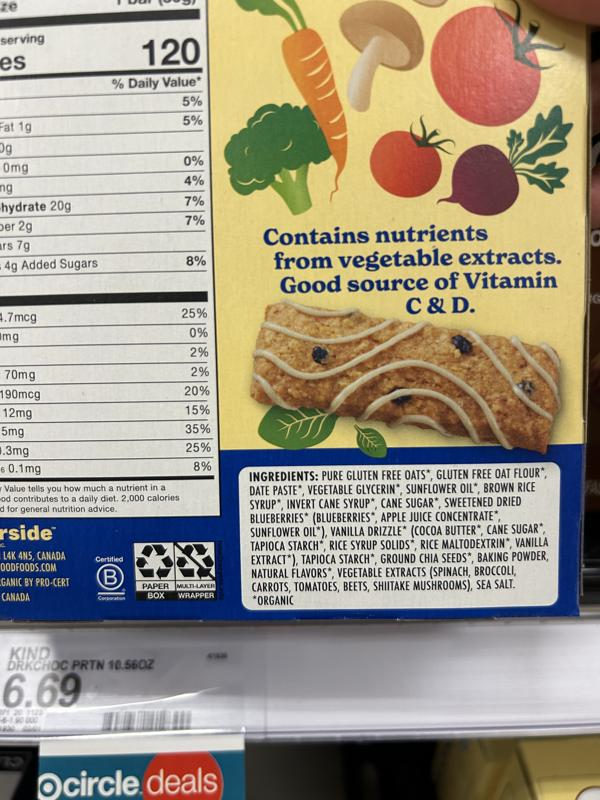ingredients: (247, 465, 550, 607)
